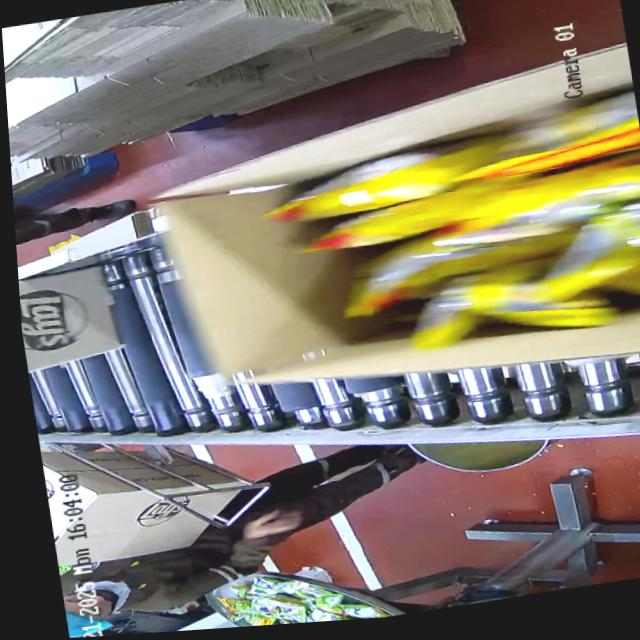SALTED: (246, 78, 640, 380)
